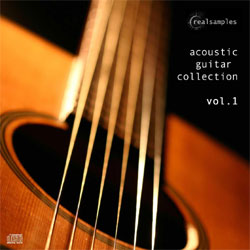guitar: (1, 1, 250, 250)
